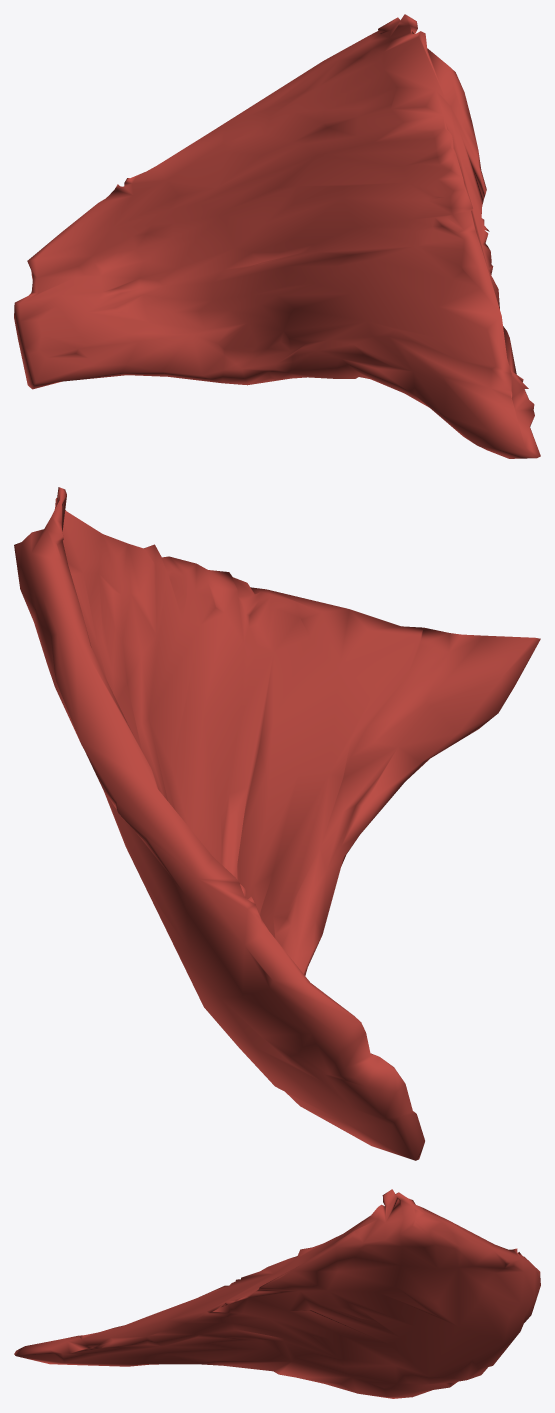
File: musculos-iliococcygeus-muscle-l.glb
3 views of the same model, one above another, from view 1: azimuth 30°, elevation 25°; view 2: azimuth 150°, elevation 25°; view 3: azimuth 270°, elevation 25° (orthographic). The views are drawn at different scales.
Parts seen in each view (by area): view 1: Iliococcygeus muscle.l; view 2: Iliococcygeus muscle.l; view 3: Iliococcygeus muscle.l.
Boxes of the visible parts, x1,y1,x2,y2 form: Iliococcygeus muscle.l: [14, 14, 540, 458]; Iliococcygeus muscle.l: [14, 487, 540, 1160]; Iliococcygeus muscle.l: [14, 1189, 540, 1398].
Bounding box in the file's own units: 0.0459 × 0.0447 × 0.0757.
